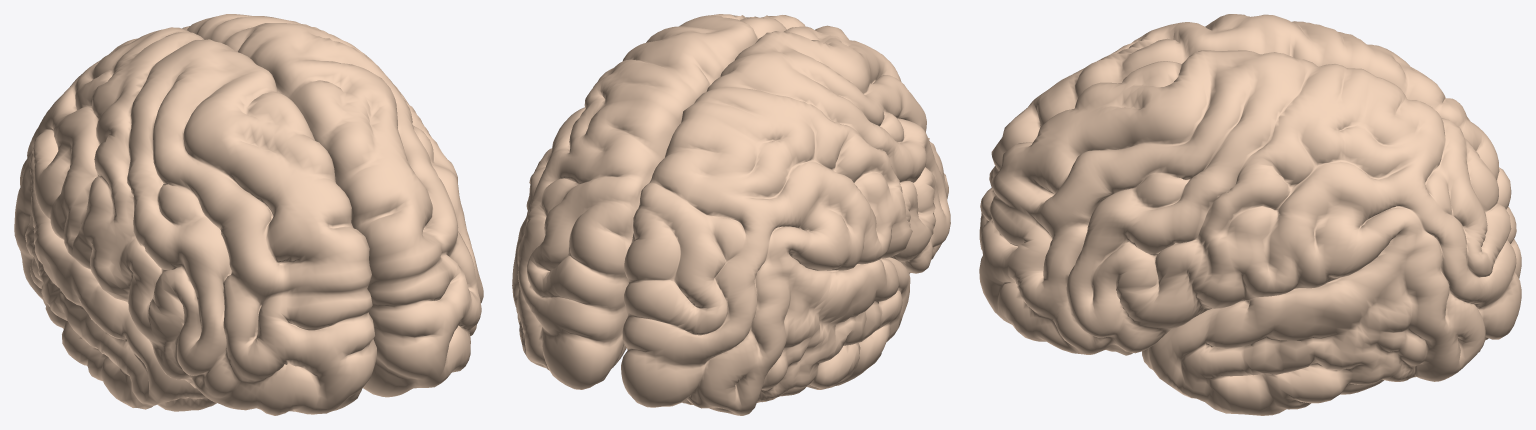
File: 女性_神经系统_大脑.fbx
3 views of the same model, side by side, from view 1: azimuth 30°, elevation 25°; view 2: azimuth 150°, elevation 25°; view 3: azimuth 270°, elevation 25° (orthographic). The views are drawn at different scales.
Visible parts, largest first — view 1: 女性_神经系统_大脑; view 2: 女性_神经系统_大脑; view 3: 女性_神经系统_大脑.
Boxes of the visible parts, <box> form: 女性_神经系统_大脑: <box>14,14,483,415</box>; 女性_神经系统_大脑: <box>512,14,950,415</box>; 女性_神经系统_大脑: <box>979,14,1521,415</box>.
Bounding box in the file's own units: 12.11 × 11.16 × 17.13.
